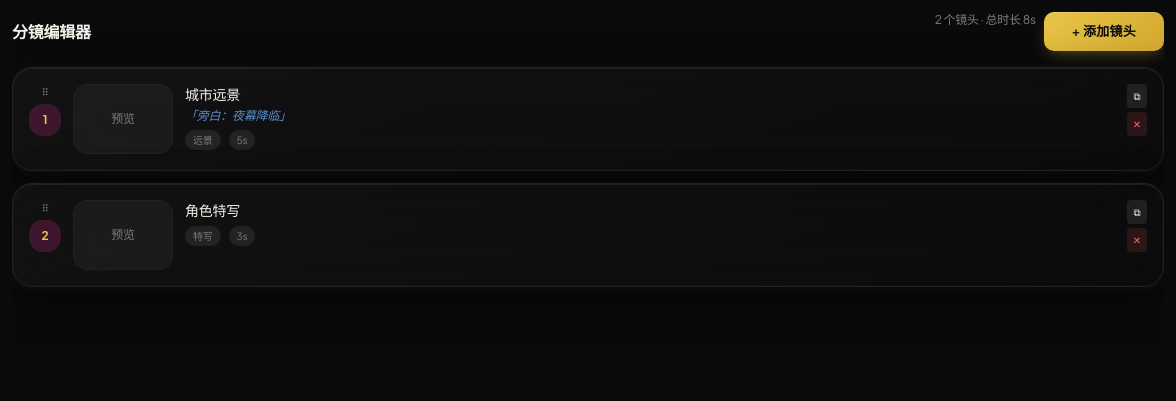
Test: StoryboardEditor › enters edit mode on click
Click the text "城市远景" at (212, 94), box x1=185 y1=85 x2=240 y2=103
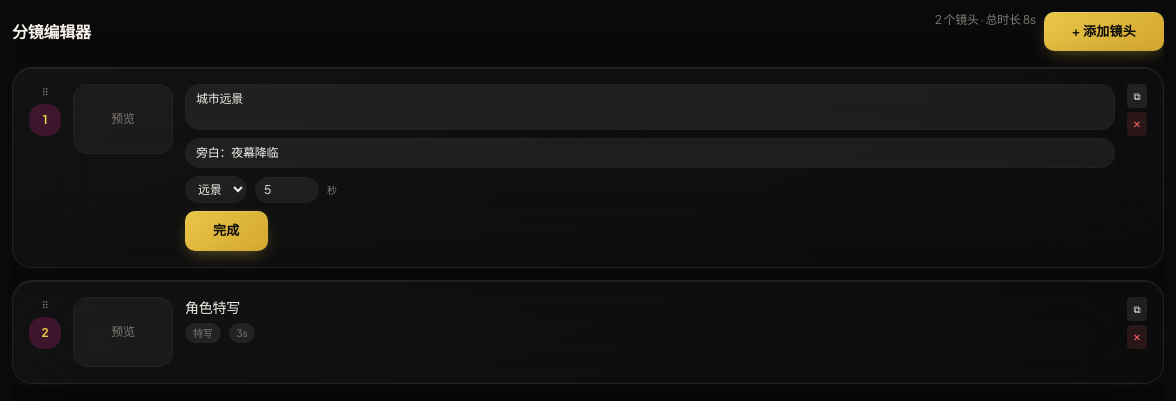
Now the button "完成" is shown, box x1=185 y1=211 x2=268 y2=251
